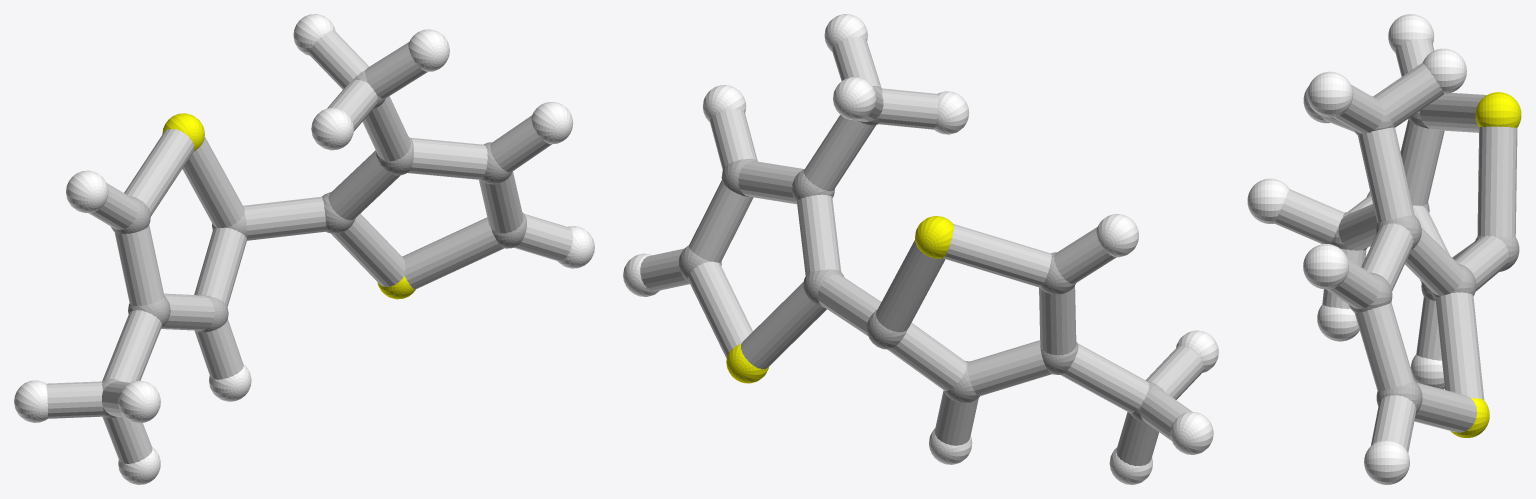
Rendered from Methylthiophene_Phi_50_Theta_40_Methylthiophene.glb.
3 renders of one model, left to right at view 1: azimuth 30°, elevation 25°; view 2: azimuth 150°, elevation 25°; view 3: azimuth 270°, elevation 25°, orthographic. The views are drawn at different scales.
Visible parts, largest first — view 1: grp7965, grp3621, grp1, grp7241; view 2: grp7965, grp3621, grp1, grp7241; view 3: grp7965, grp3621, grp1, grp7241.
Part boxes in pixels (box(x1,y1,x2,y2)): grp7965: box(46, 30, 573, 464); grp3621: box(14, 14, 594, 484); grp1: box(102, 70, 526, 418); grp7241: box(162, 113, 415, 299); grp7965: box(640, 37, 1204, 466); grp3621: box(623, 14, 1218, 484); grp1: box(679, 86, 1163, 423); grp7241: box(726, 216, 953, 383); grp7965: box(1274, 38, 1517, 452); grp3621: box(1247, 14, 1466, 484); grp1: box(1331, 96, 1519, 413); grp7241: box(1450, 92, 1521, 437).
Bounding box in the file's own units: 9.32 × 5.98 × 3.57.
